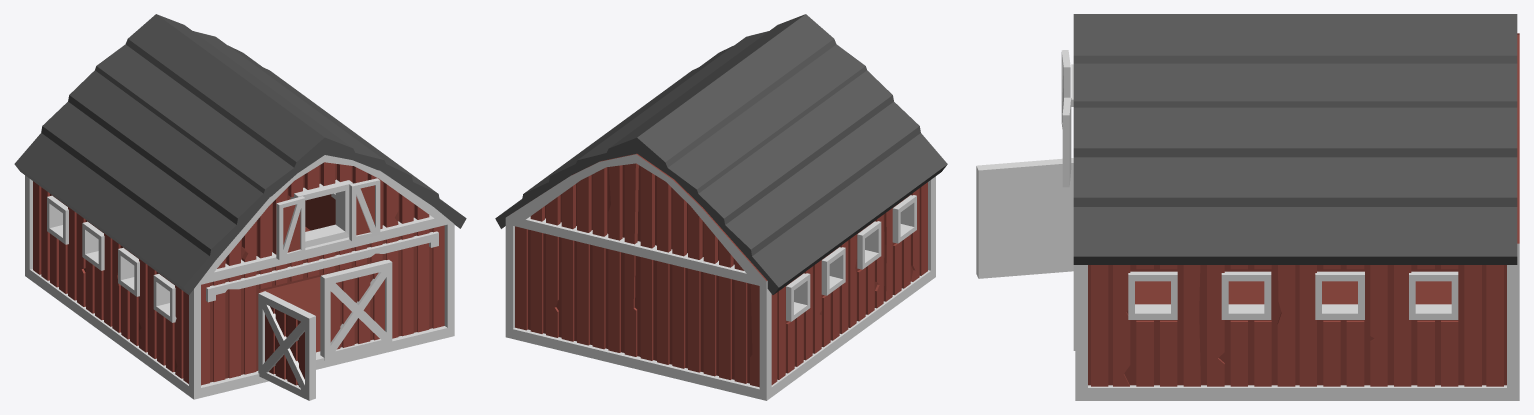
The model's file is Barn.glb.
The picture shows the model from 3 angles, left to right: view 1: azimuth 30°, elevation 25°; view 2: azimuth 150°, elevation 25°; view 3: azimuth 270°, elevation 25°; orthographic projection. The views are drawn at different scales.
Parts seen in each view (by area): view 1: Barn, Barn_Door, Barn_Door2, Barn_Window, Barn_Window2; view 2: Barn; view 3: Barn, Barn_Door2, Barn_Window, Barn_Window2.
Boxes of the visible parts, x1,y1,x2,y2 form: Barn: [14, 14, 466, 399]; Barn_Door: [320, 259, 392, 360]; Barn_Door2: [258, 291, 315, 400]; Barn_Window: [349, 178, 380, 241]; Barn_Window2: [276, 196, 305, 259]; Barn: [495, 14, 947, 400]; Barn: [1071, 14, 1519, 400]; Barn_Door2: [976, 158, 1073, 278]; Barn_Window: [1062, 97, 1071, 187]; Barn_Window2: [1061, 50, 1070, 128].
Bounding box in the file's own units: 7.73 × 6.01 × 9.75.
